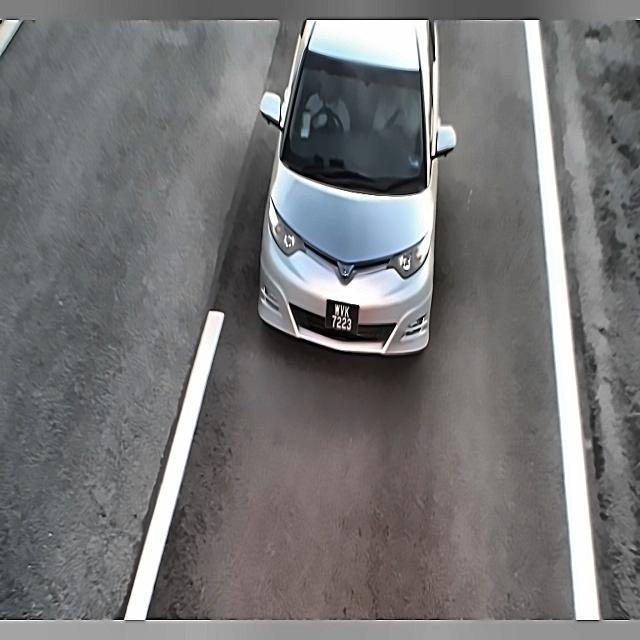car: (322, 293, 366, 341)
